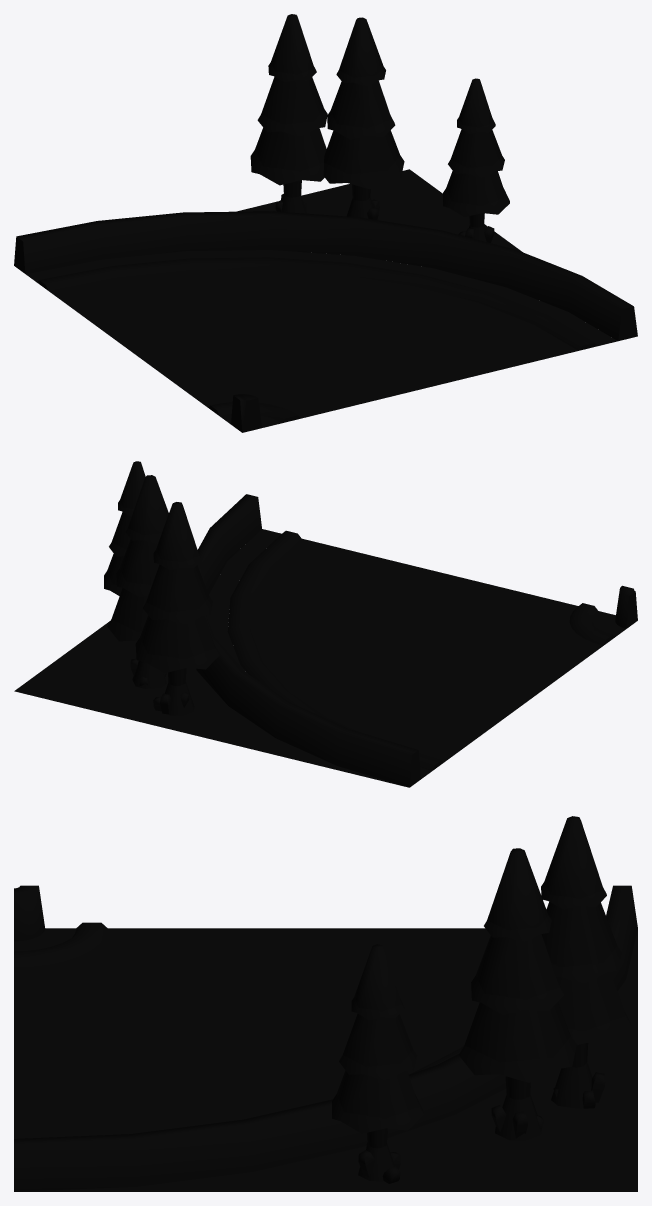
File: track-corner.glb
3 views of the same model, one above another, from view 1: azimuth 30°, elevation 25°; view 2: azimuth 150°, elevation 25°; view 3: azimuth 270°, elevation 25° (orthographic). The views are drawn at different scales.
Parts seen in each view (by area): view 1: track-corner; view 2: track-corner; view 3: track-corner.
Boxes of the visible parts, <box> form: track-corner: <box>14,14,637,432</box>; track-corner: <box>14,461,637,787</box>; track-corner: <box>14,816,637,1191</box>.
Size of the model in its own units: 10.06 by 4.94 by 10.
Materials: 1 (1 with a texture image).
